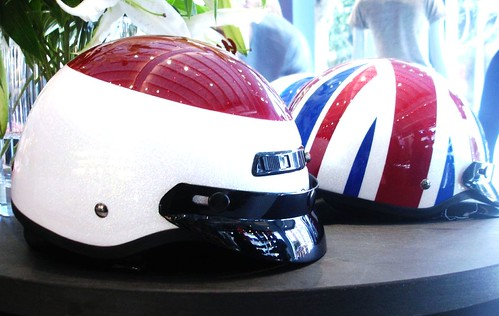helmet: (17, 49, 291, 232), (306, 53, 481, 210)
